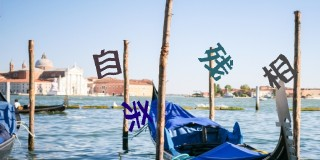杀: (121, 100, 151, 132)
残: (197, 42, 234, 81)
相: (262, 54, 296, 90)
自: (93, 49, 123, 79)
